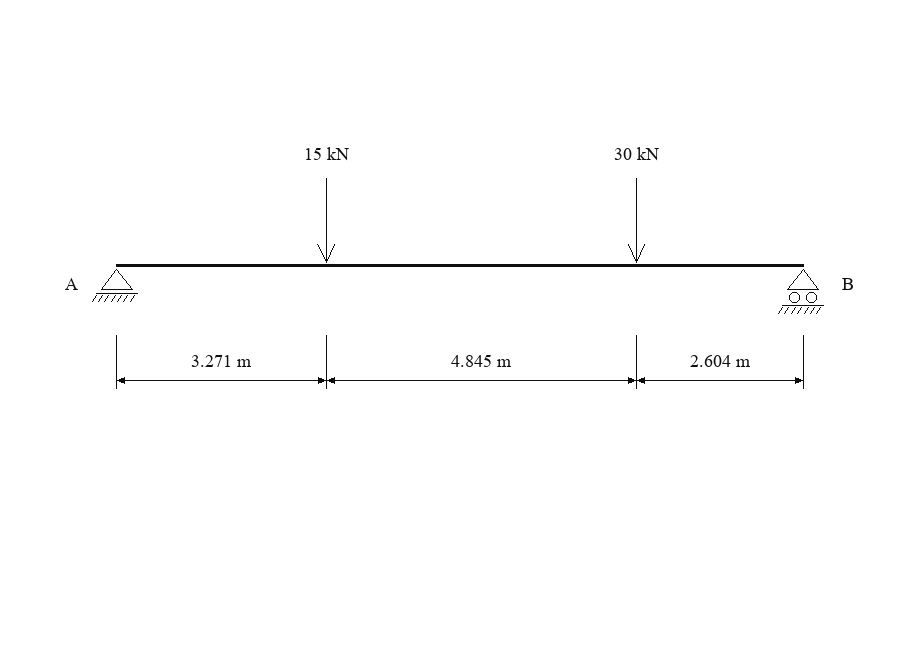pin_support: (92, 269, 138, 302)
point_load: (317, 178, 335, 263), (628, 178, 645, 263)
roller_support: (778, 269, 824, 314)
